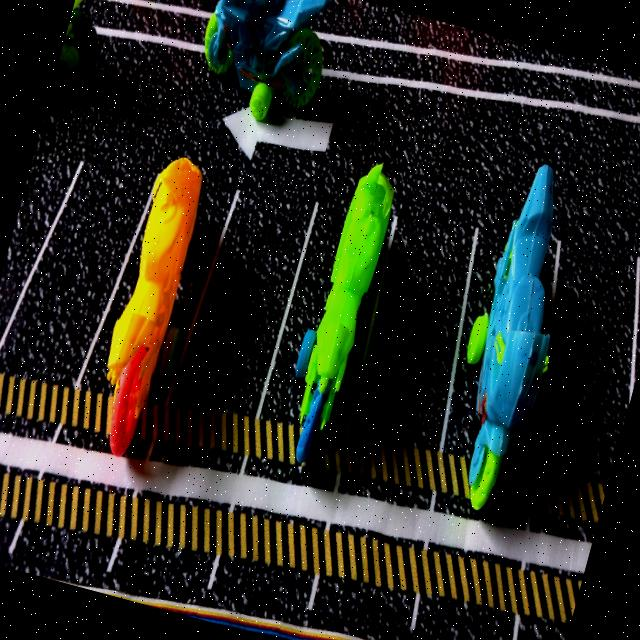bikes: (205, 0, 329, 119)
occupied: (84, 158, 234, 453), (262, 165, 394, 462), (441, 165, 553, 509)
slots: (169, 168, 316, 414), (0, 157, 148, 385), (350, 207, 474, 446), (538, 226, 635, 479)
